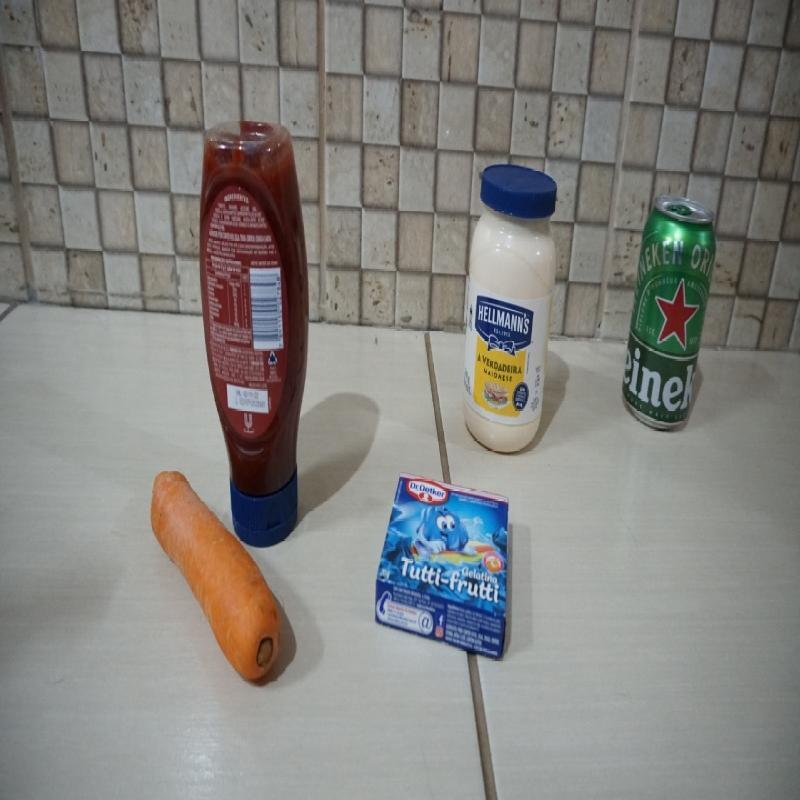Beer can: (618, 195, 718, 431)
Carrot: (150, 468, 281, 685)
Gelatine: (373, 472, 511, 662)
Ketchup: (198, 119, 310, 549)
Mayonnaise: (463, 163, 558, 455)
